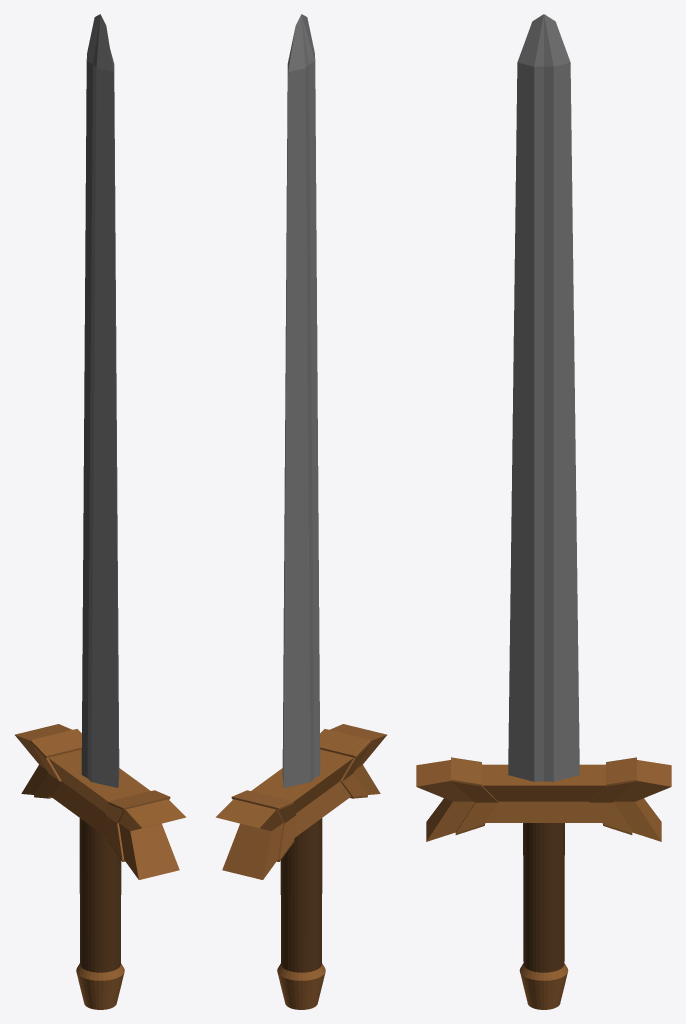
File: Sword - Simple.fbx
3 renders of one model, left to right at view 1: azimuth 30°, elevation 25°; view 2: azimuth 150°, elevation 25°; view 3: azimuth 270°, elevation 25°, orthographic.
Parts seen in each view (by area): view 1: Blade, Crossguard, Hilt; view 2: Blade, Crossguard, Hilt; view 3: Blade, Crossguard, Hilt.
Boxes of the visible parts, x1=… form: Blade: x1=81, y1=14, x2=119, y2=787; Crossguard: x1=15, y1=724, x2=186, y2=879; Hilt: x1=76, y1=818, x2=124, y2=1009; Blade: x1=282, y1=14, x2=320, y2=787; Crossguard: x1=215, y1=724, x2=386, y2=879; Hilt: x1=277, y1=818, x2=325, y2=1009; Blade: x1=508, y1=14, x2=579, y2=781; Crossguard: x1=416, y1=757, x2=671, y2=841; Hilt: x1=519, y1=823, x2=568, y2=1009.
Bounding box in the file's own units: 2.56 × 52.06 × 12.19.
